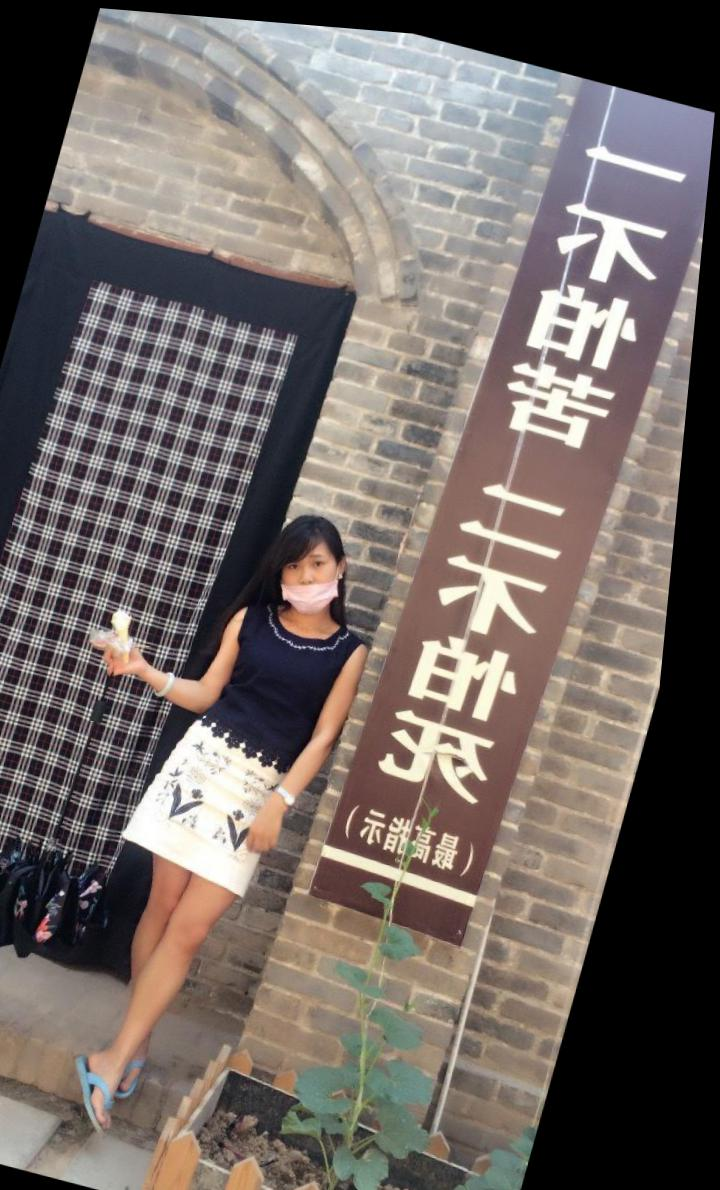WRONG: (279, 537, 357, 615)
